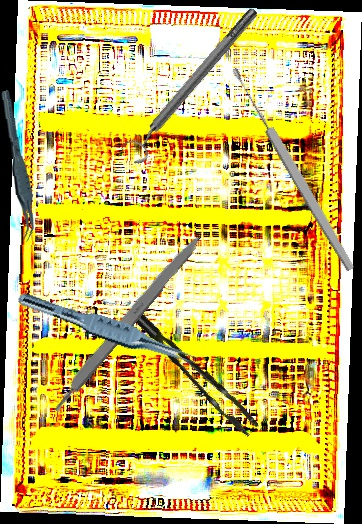Fixation Ring: (116, 1, 268, 168)
Scalpel Handle: (47, 230, 205, 414)
Surgical Spoon: (228, 65, 358, 273)
Tissue Forceps: (129, 294, 261, 448), (13, 290, 203, 370), (0, 89, 36, 243)
